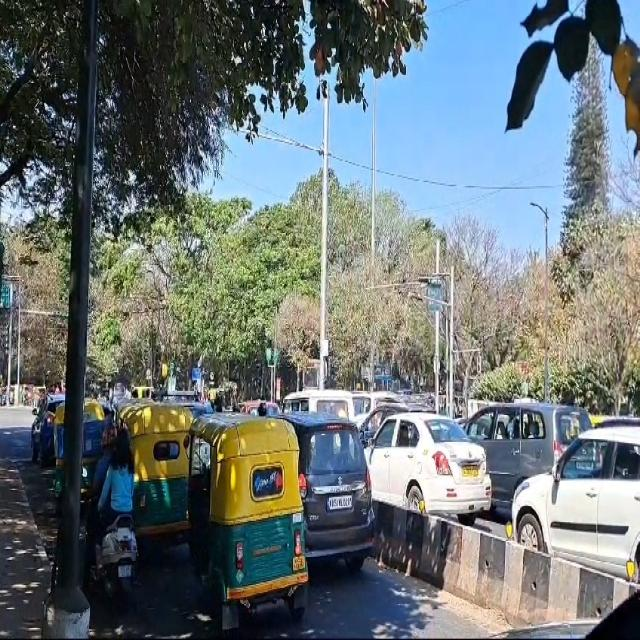cars: (512, 430, 640, 580), (363, 415, 492, 529), (466, 407, 590, 513), (301, 408, 374, 585)
